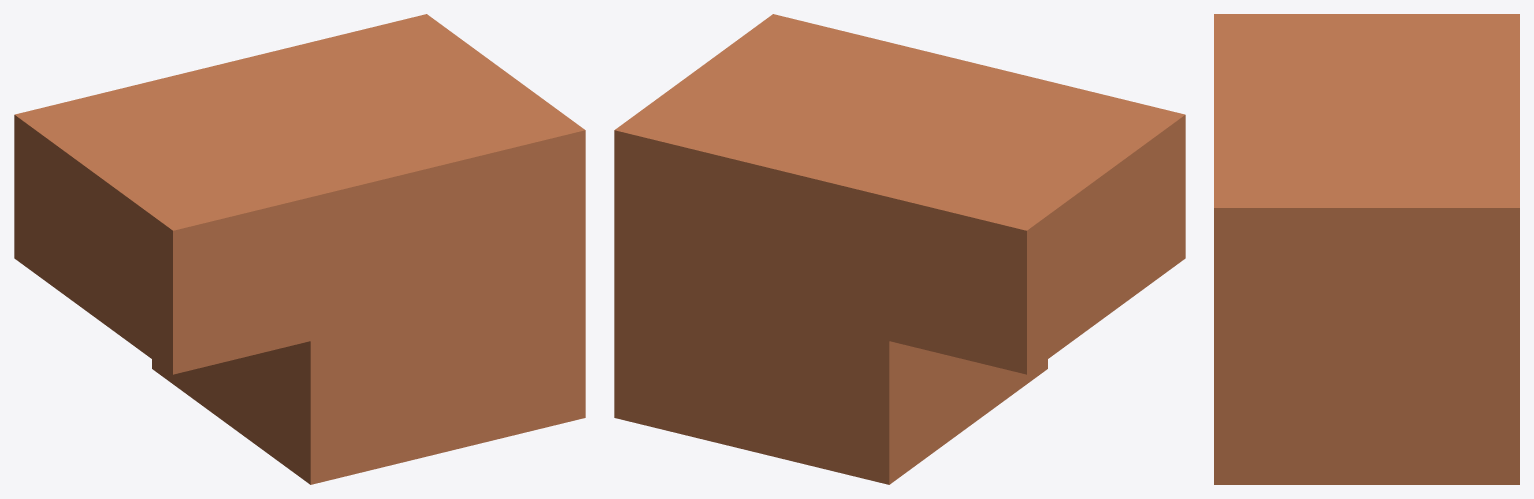
File: LowBoy-3.obj
The picture shows the model from 3 angles, left to right: view 1: azimuth 30°, elevation 25°; view 2: azimuth 150°, elevation 25°; view 3: azimuth 270°, elevation 25°; orthographic projection. The views are drawn at different scales.
Parts seen in each view (by area): view 1: LowBoy-3; view 2: LowBoy-3; view 3: LowBoy-3.
Boxes of the visible parts, <box> form: LowBoy-3: <box>14,14,585,484</box>; LowBoy-3: <box>614,14,1185,484</box>; LowBoy-3: <box>1214,14,1519,484</box>.
Bounding box in the file's own units: 3 × 2 × 2.
1 material, 1 textured.
